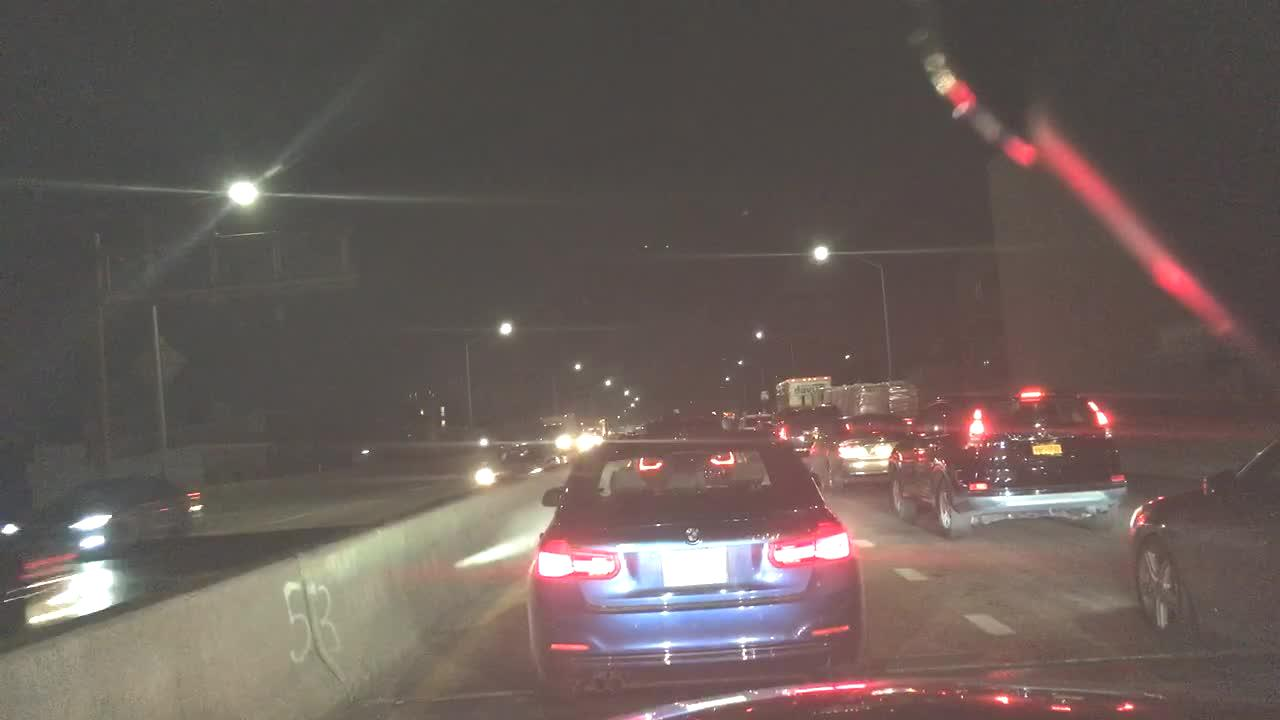bmw: (677, 516, 707, 545)
